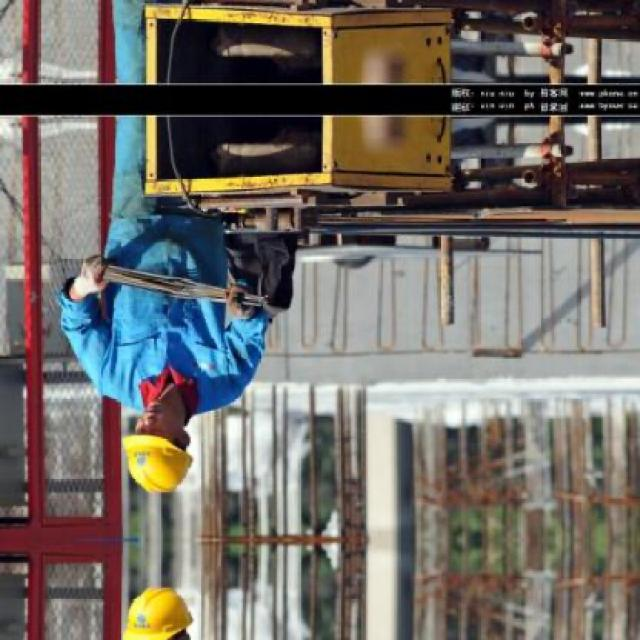con casco: (91, 368, 252, 512)
